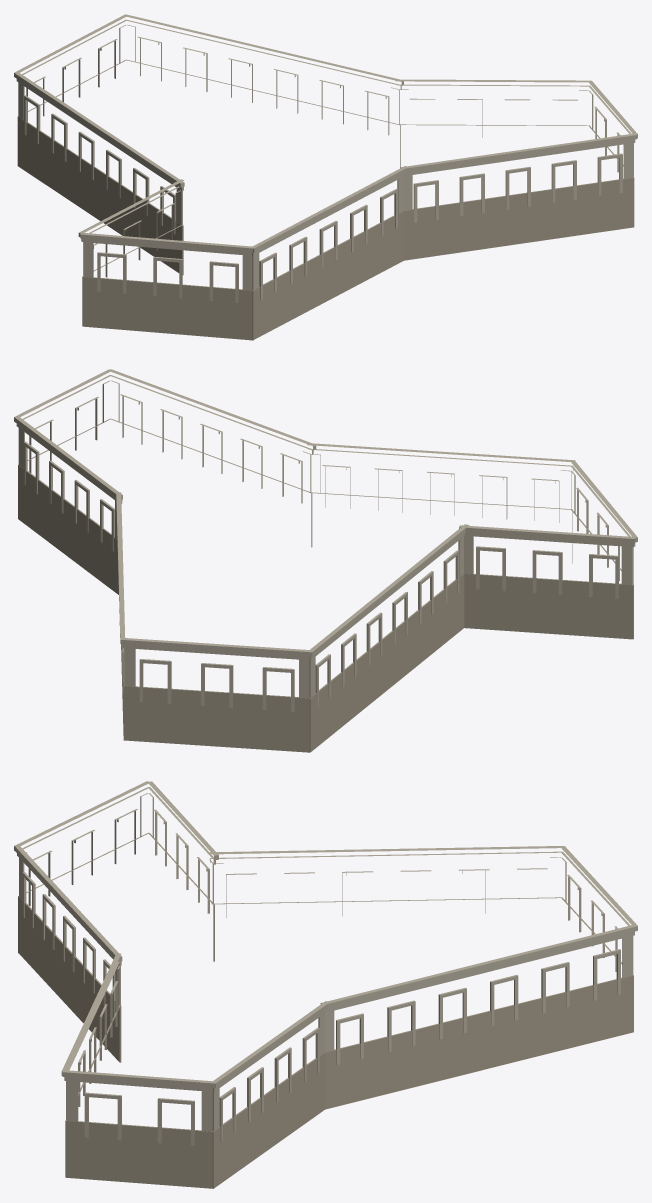
3 views of the same model, one above another, from view 1: azimuth 30°, elevation 25°; view 2: azimuth 150°, elevation 25°; view 3: azimuth 270°, elevation 25° (orthographic). The views are drawn at different scales.
Visible parts, largest first — view 1: detail; view 2: detail; view 3: detail.
Part boxes in pixels (box(x1,y1,x2,y2)): detail: box(14, 14, 637, 340); detail: box(14, 369, 637, 752); detail: box(14, 781, 637, 1188).
Bounding box in the file's own units: 38.91 × 6.41 × 33.9.
